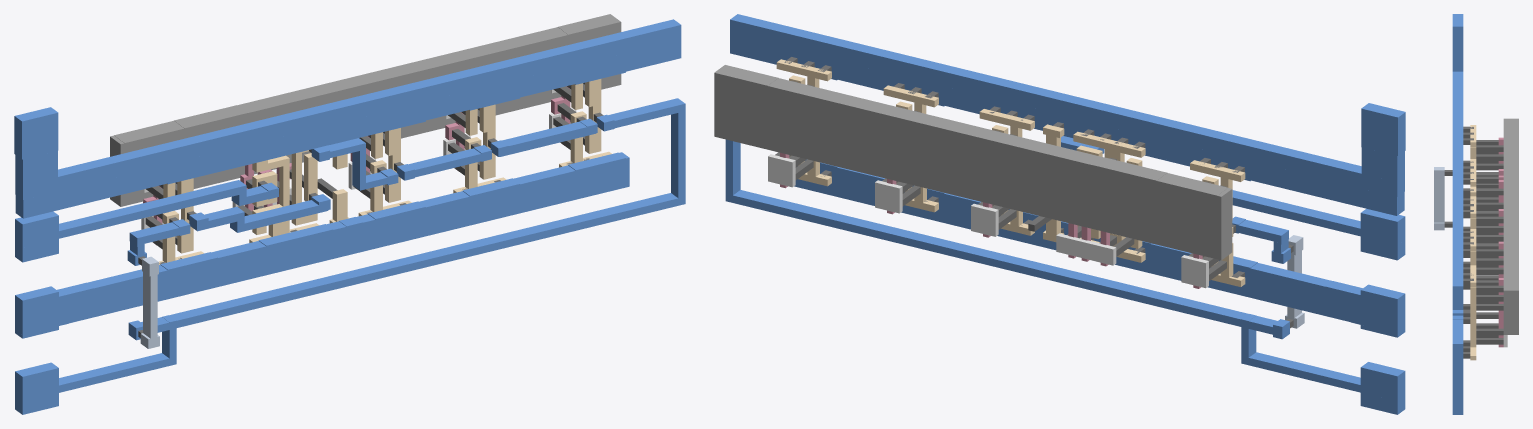
Rendered from ring_osc.gds.gltf.
3 renders of one model, left to right at view 1: azimuth 30°, elevation 25°; view 2: azimuth 150°, elevation 25°; view 3: azimuth 270°, elevation 25°, orthographic. The views are drawn at different scales.
Parts seen in each view (by area): view 1: ring_osc_met1, sky130_fd_sc_hd__inv_1_met1 (×4), ring_osc_nwell, sky130_fd_sc_hd__inv_1_li1 (×4), sky130_fd_sc_hd__inv_1_nwell (×4), sky130_fd_sc_hd__einvn_0_li1, sky130_fd_sc_hd__einvn_0_met1, sky130_fd_sc_hd__einvn_0_nwell, ring_osc_met2, sky130_fd_sc_hd__tapvpwrvgnd_1_met1, sky130_fd_sc_hd__tapvpwrvgnd_1_li1, sky130_fd_sc_hd__inv_1_licon; view 2: ring_osc_met1, ring_osc_nwell, sky130_fd_sc_hd__inv_1_nwell (×4), sky130_fd_sc_hd__inv_1_li1 (×4), sky130_fd_sc_hd__inv_1_diff (×4), sky130_fd_sc_hd__einvn_0_nwell, sky130_fd_sc_hd__einvn_0_li1, sky130_fd_sc_hd__inv_1_met1 (×2), sky130_fd_sc_hd__einvn_0_diff, ring_osc_met2, sky130_fd_sc_hd__einvn_0_met1, sky130_fd_sc_hd__tapvpwrvgnd_1_li1; view 3: ring_osc_met1, sky130_fd_sc_hd__inv_1_licon (×4), ring_osc_nwell, sky130_fd_sc_hd__inv_1_li1 (×4), sky130_fd_sc_hd__inv_1_nwell (×4), sky130_fd_sc_hd__inv_1_mcon (×4), ring_osc_met2, sky130_fd_sc_hd__einvn_0_licon, sky130_fd_sc_hd__inv_1_poly (×2), sky130_fd_sc_hd__einvn_0_nwell, ring_osc_mcon, sky130_fd_sc_hd__einvn_0_mcon (+5 smaller).
Part boxes in pixels (x1,y1,x2,y2): ring_osc_met1: (14,19,685,414); sky130_fd_sc_hd__inv_1_met1 (×4): (160,54,625,287); ring_osc_nwell: (110,14,621,206); sky130_fd_sc_hd__inv_1_li1 (×4): (159,79,611,264); sky130_fd_sc_hd__inv_1_nwell (×4): (114,27,596,203); sky130_fd_sc_hd__einvn_0_li1: (249,150,319,242); sky130_fd_sc_hd__einvn_0_met1: (258,126,333,263); sky130_fd_sc_hd__einvn_0_nwell: (223,95,303,180); ring_osc_met2: (140,256,159,348); sky130_fd_sc_hd__tapvpwrvgnd_1_met1: (339,119,363,244); sky130_fd_sc_hd__tapvpwrvgnd_1_li1: (329,154,349,223); sky130_fd_sc_hd__inv_1_licon: (448,108,479,175); ring_osc_met1: (725,14,1405,414); ring_osc_nwell: (714,65,1232,260); sky130_fd_sc_hd__inv_1_nwell (×4): (739,78,1227,256); sky130_fd_sc_hd__inv_1_li1 (×4): (776,59,1245,286); sky130_fd_sc_hd__inv_1_diff (×4): (768,154,1208,288); sky130_fd_sc_hd__einvn_0_nwell: (1035,143,1102,226); sky130_fd_sc_hd__einvn_0_li1: (1073,131,1145,262); sky130_fd_sc_hd__inv_1_met1 (×2): (893,75,1257,286); sky130_fd_sc_hd__einvn_0_diff: (1056,233,1116,265); ring_osc_met2: (1285,235,1304,328); sky130_fd_sc_hd__einvn_0_met1: (1082,122,1151,261); sky130_fd_sc_hd__tapvpwrvgnd_1_li1: (1043,124,1064,242); ring_osc_met1: (1452,14,1463,414); sky130_fd_sc_hd__inv_1_licon (×4): (1476,140,1503,344); ring_osc_nwell: (1503,118,1518,334); sky130_fd_sc_hd__inv_1_li1 (×4): (1470,125,1476,360); sky130_fd_sc_hd__inv_1_nwell (×4): (1503,119,1518,272); sky130_fd_sc_hd__inv_1_mcon (×4): (1463,126,1473,358); ring_osc_met2: (1434,167,1444,230); sky130_fd_sc_hd__einvn_0_licon: (1476,173,1503,243); sky130_fd_sc_hd__inv_1_poly (×2): (1498,241,1503,347); sky130_fd_sc_hd__einvn_0_nwell: (1503,162,1518,181); ring_osc_mcon: (1463,195,1470,323); sky130_fd_sc_hd__einvn_0_mcon: (1463,160,1473,257).
Size of the model in its own units: 18.22 by 7.7 by 2.86.
